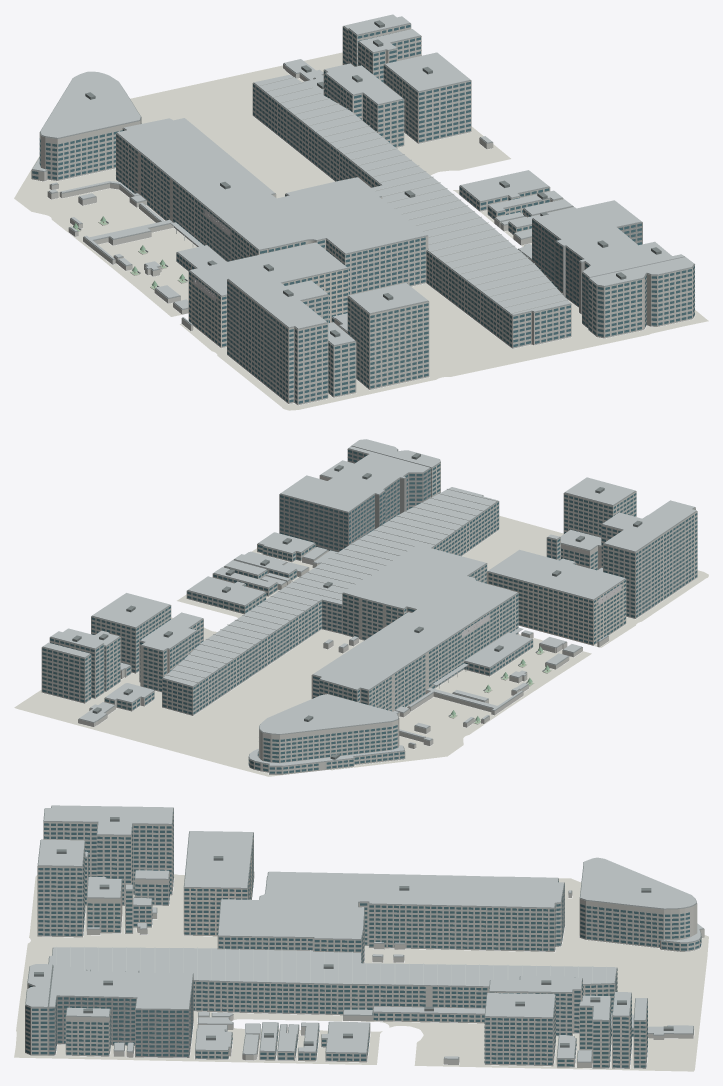
3 views of the same model, one above another, from view 1: azimuth 30°, elevation 25°; view 2: azimuth 150°, elevation 25°; view 3: azimuth 270°, elevation 25° (orthographic). The views are drawn at different scales.
Parts seen in each view (by area): view 1: Hakata Station Entire Block; view 2: Hakata Station Entire Block; view 3: Hakata Station Entire Block.
Part boxes in pixels (left/top/right/bottom): Hakata Station Entire Block: left=14, top=14, right=708, bottom=410; Hakata Station Entire Block: left=14, top=439, right=708, bottom=776; Hakata Station Entire Block: left=14, top=805, right=708, bottom=1071.
Bounding box in the file's own units: 334 × 57.31 × 492.
